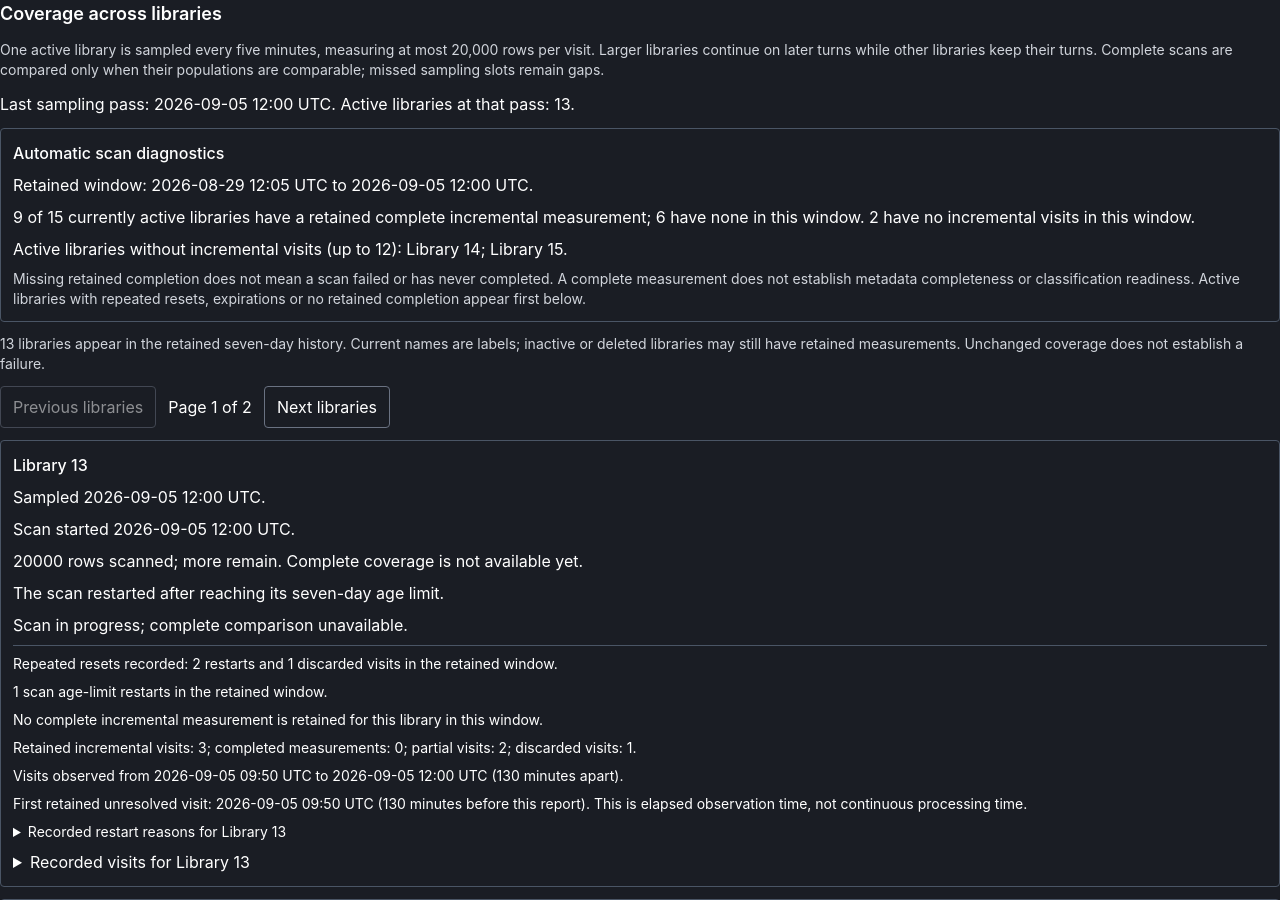
Test: automatically prioritizes active unresolved libraries, with bounded local pagination
Click the button "Next libraries". click: point(327, 407)
box: [264,386,390,428]
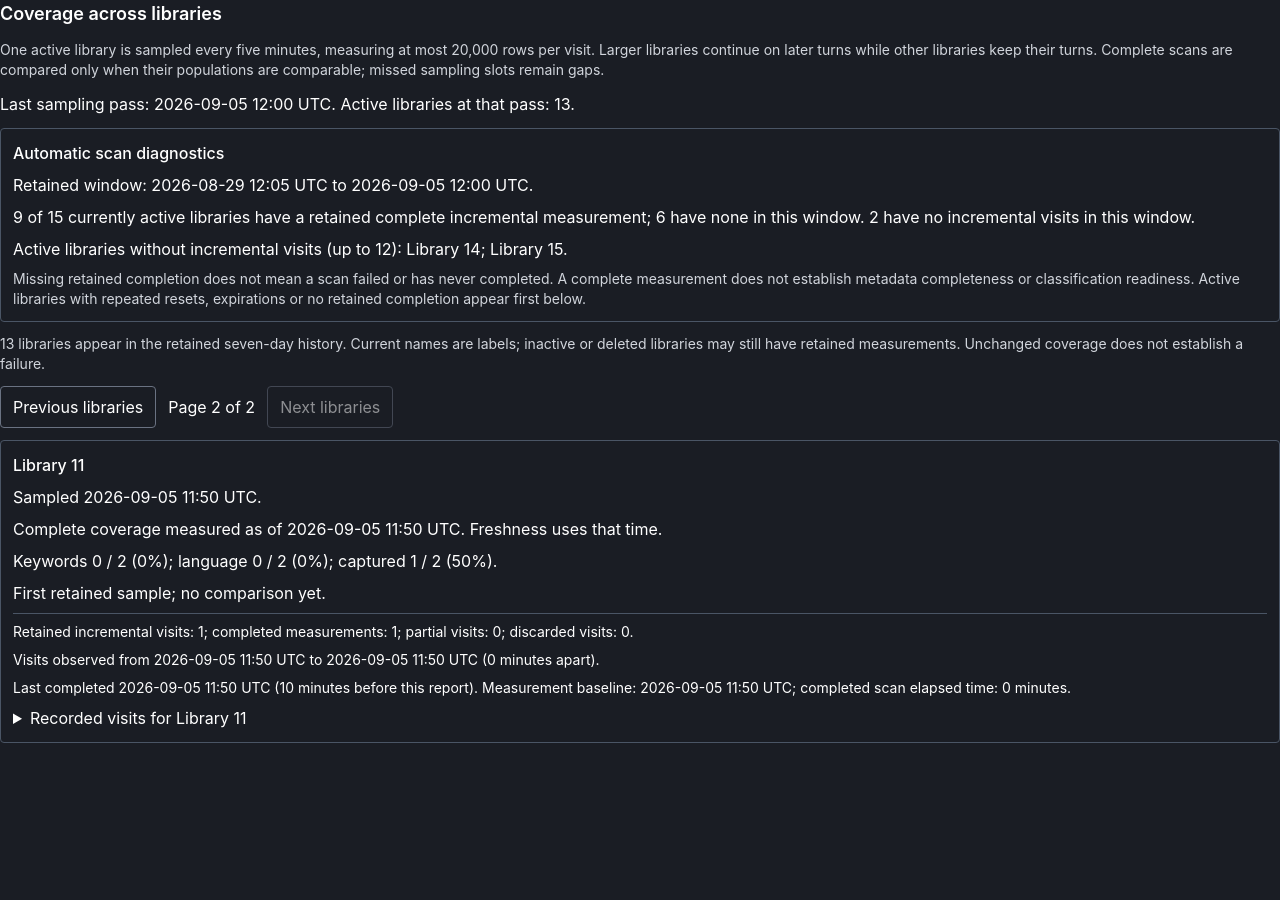
Expected: the heading "Library 11" is shown, [13,455,84,475]
Expected: the message "Page 2 of 2" is shown, [168,395,255,419]
